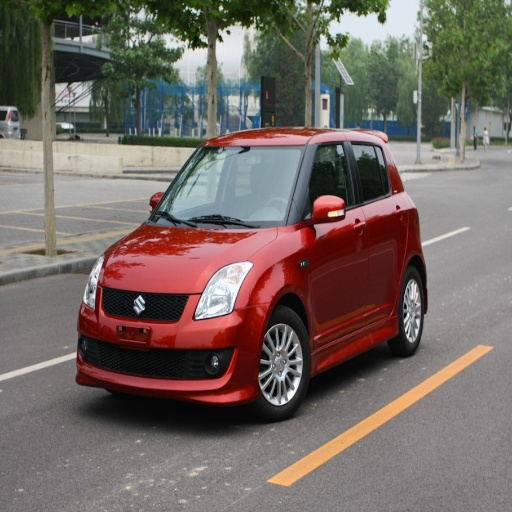front_bumper: (77, 285, 263, 404)
front_glass: (150, 148, 306, 224)
front_left_door: (299, 139, 369, 345)
